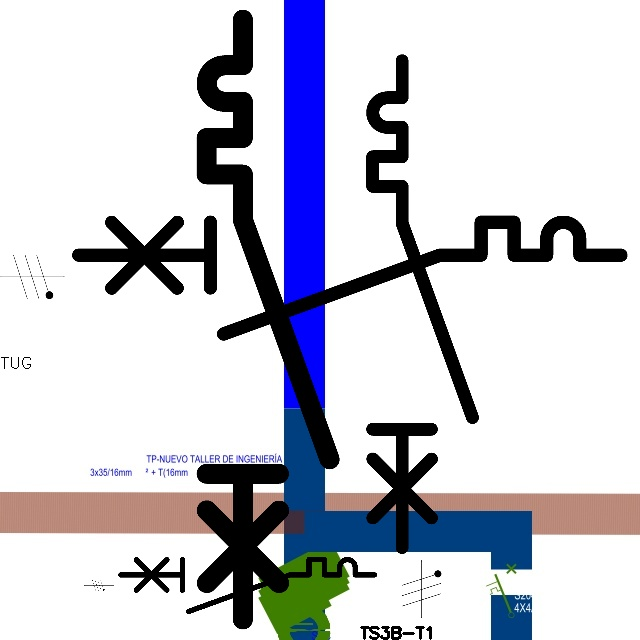interruptor_termomagnetico: (191, 4, 345, 635), (64, 208, 635, 348), (360, 48, 485, 560), (114, 553, 381, 618)
